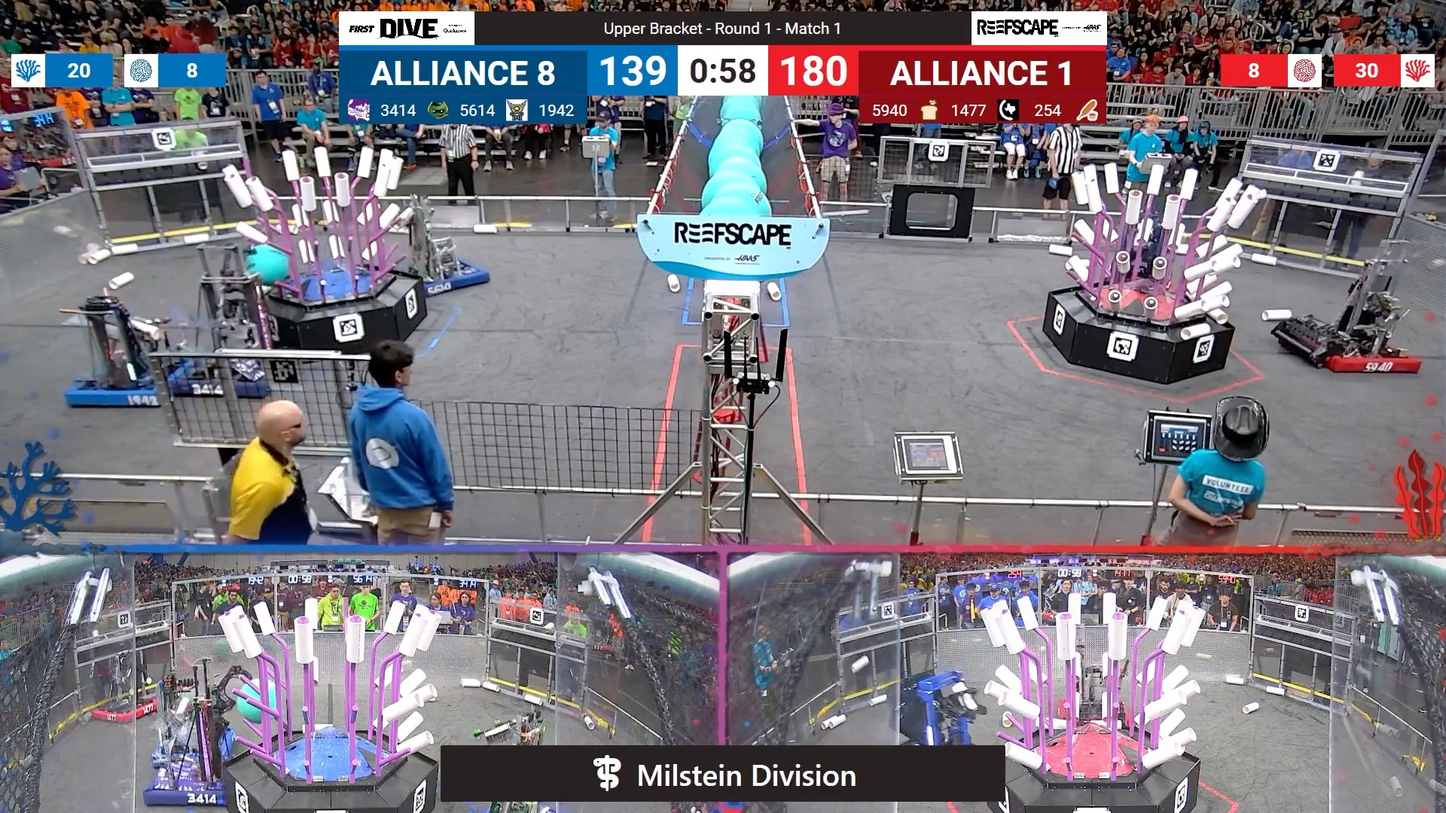bumpers: (1269, 317, 1437, 385), (53, 352, 181, 413), (184, 350, 307, 404), (384, 252, 496, 297), (142, 768, 239, 813), (85, 694, 166, 727)
